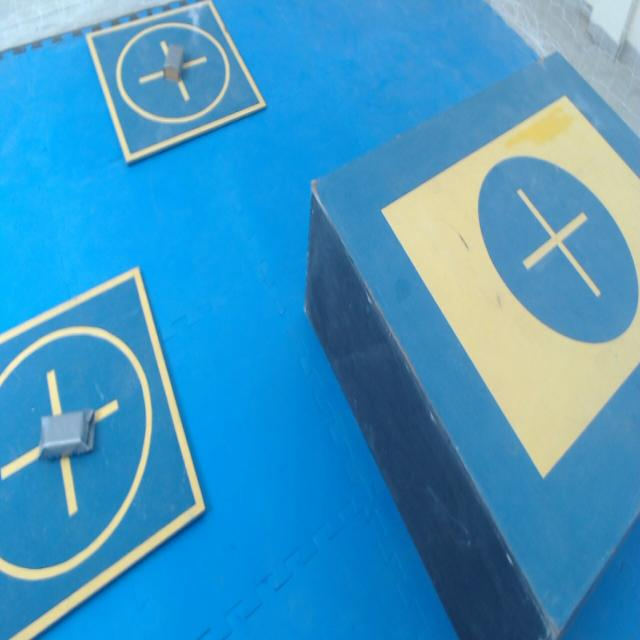lipo: (40, 409, 94, 459), (163, 44, 184, 82)
